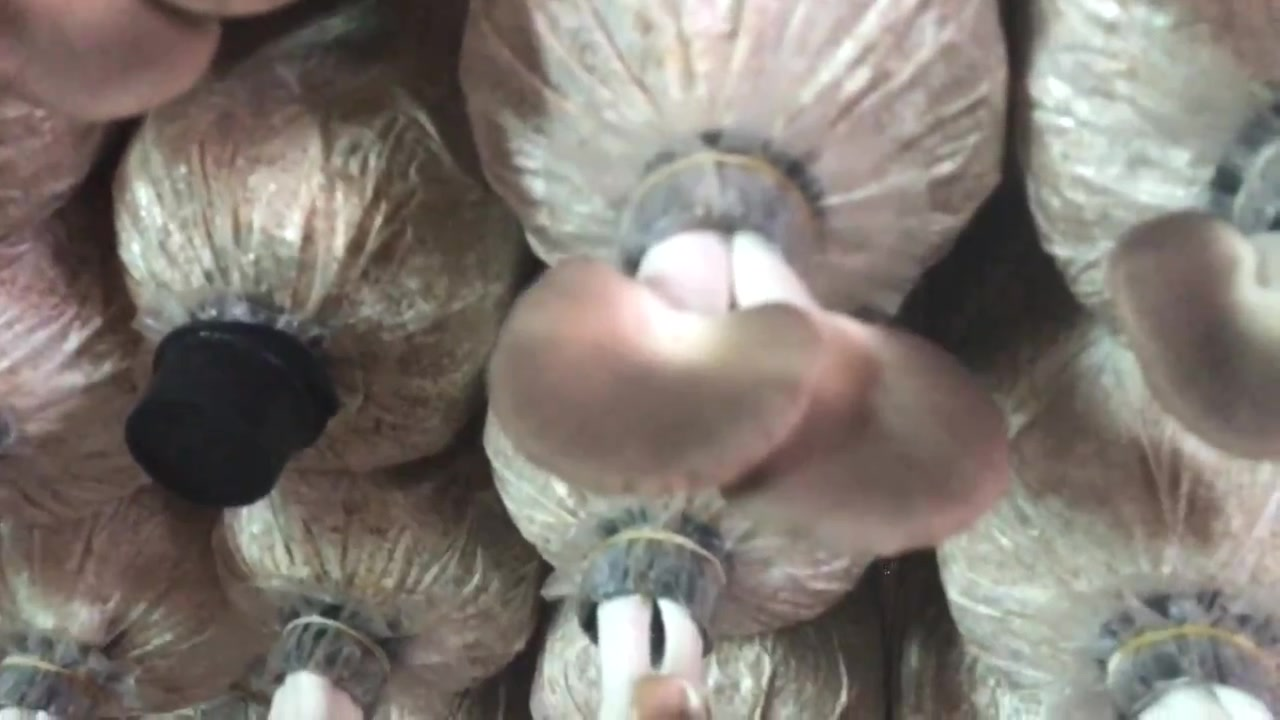nam: (482, 135, 1009, 556), (1105, 207, 1280, 461), (577, 535, 722, 720)
